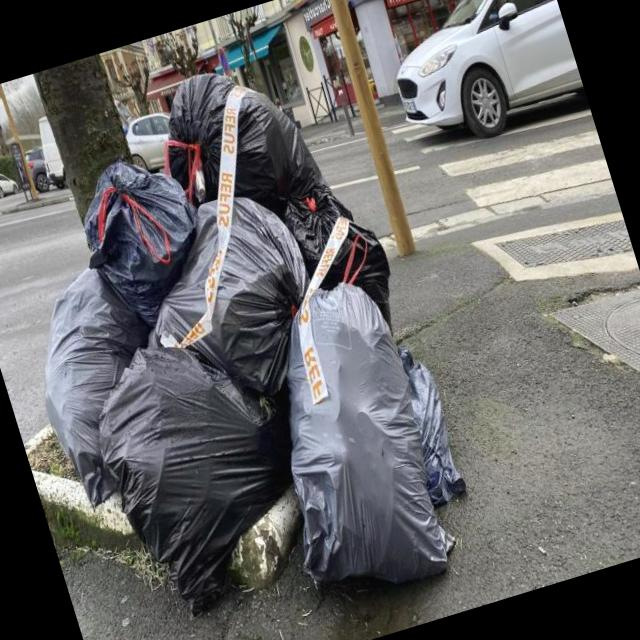high trash: (45, 74, 464, 614)
